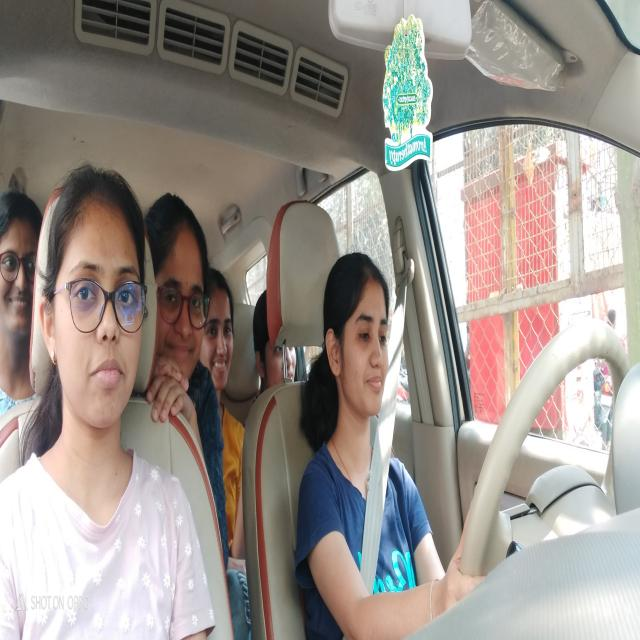person: (36, 152, 156, 448), (147, 182, 211, 409), (320, 246, 395, 434), (0, 175, 44, 353), (253, 280, 300, 388), (205, 257, 239, 406)
